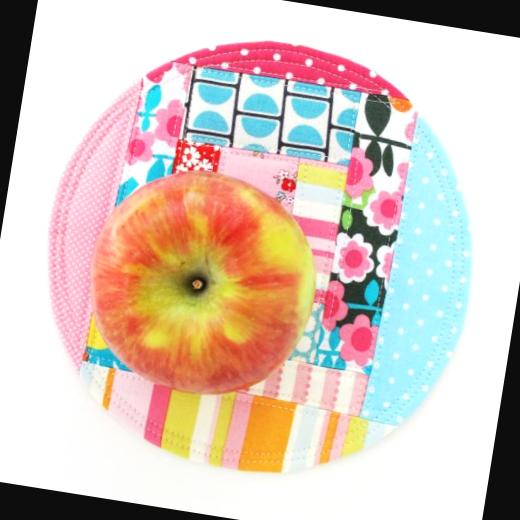Apple: (80, 153, 326, 417)
